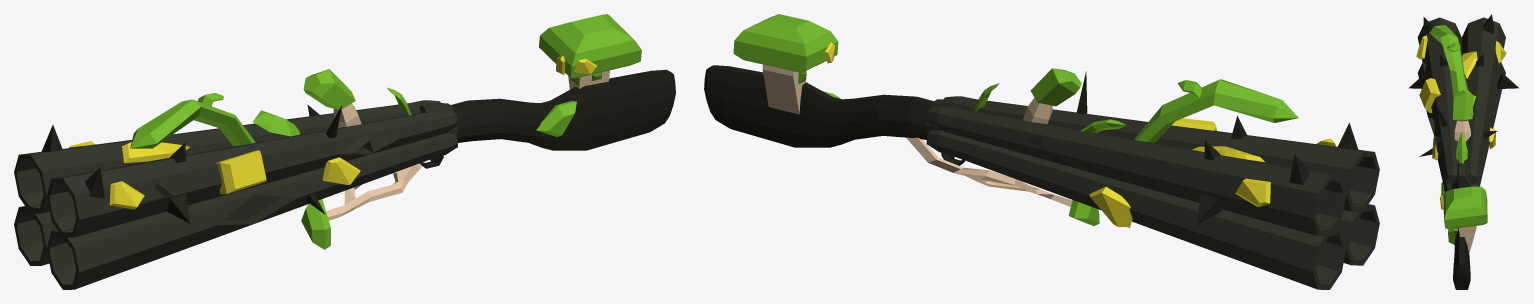
File: Espingarda orgãnica.glb
3 renders of one model, left to right at view 1: azimuth 30°, elevation 25°; view 2: azimuth 150°, elevation 25°; view 3: azimuth 270°, elevation 25°, orthographic. The views are drawn at different scales.
Visible parts, largest first — view 1: Cylinder.001; view 2: Cylinder.001; view 3: Cylinder.001.
Boxes of the visible parts, x1=… form: Cylinder.001: x1=14, y1=14, x2=675, y2=289; Cylinder.001: x1=704, y1=14, x2=1379, y2=289; Cylinder.001: x1=1409, y1=14, x2=1518, y2=289.
Size of the model in its own units: 53.93 by 14.66 by 12.28.
